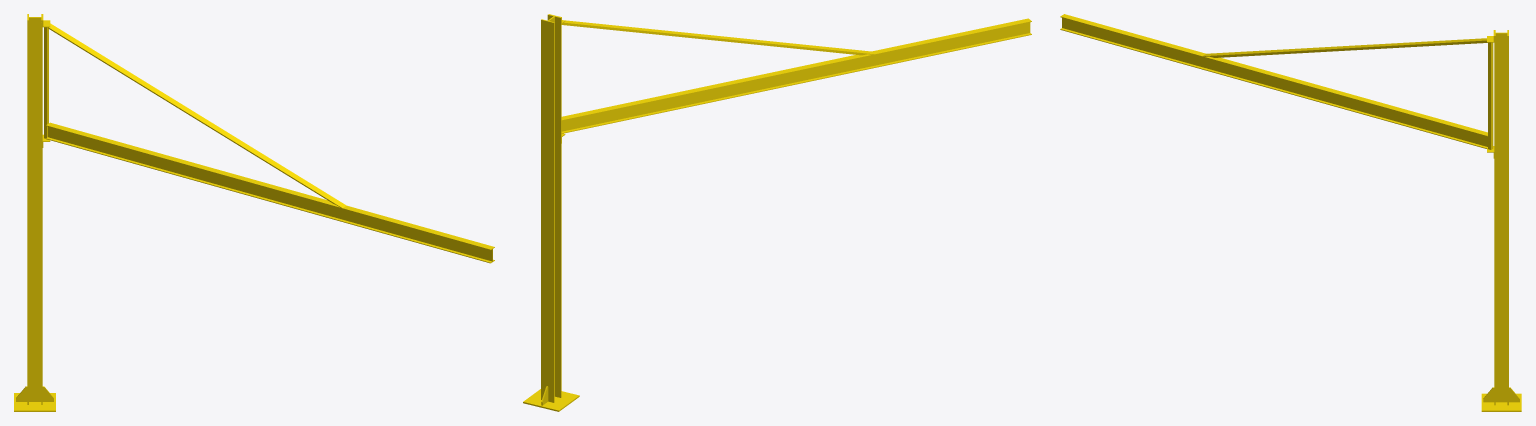
3 views of the same model, side by side, from view 1: azimuth 90°, elevation 25°; view 2: azimuth 150°, elevation 25°; view 3: azimuth 270°, elevation 25° (orthographic). The views are drawn at different scales.
Visible parts, largest first — view 1: imagetostl_mesh80, imagetostl_mesh7, imagetostl_mesh72, imagetostl_mesh38, imagetostl_mesh56, imagetostl_mesh2, imagetostl_mesh9, imagetostl_mesh74, imagetostl_mesh84, imagetostl_mesh83, imagetostl_mesh6; view 2: imagetostl_mesh80, imagetostl_mesh10, imagetostl_mesh22, imagetostl_mesh38, imagetostl_mesh56, imagetostl_mesh72, imagetostl_mesh69, imagetostl_mesh74, imagetostl_mesh84, imagetostl_mesh83, imagetostl_mesh6; view 3: imagetostl_mesh12, imagetostl_mesh79, imagetostl_mesh38, imagetostl_mesh60, imagetostl_mesh72, imagetostl_mesh17, imagetostl_mesh4, imagetostl_mesh67, imagetostl_mesh74, imagetostl_mesh81, imagetostl_mesh82, imagetostl_mesh6.
Part boxes in pixels (box(x1,y1,x2,y2)): imagetostl_mesh80: box(48, 126, 492, 261); imagetostl_mesh7: box(29, 17, 41, 401); imagetostl_mesh72: box(49, 23, 346, 208); imagetostl_mesh38: box(46, 122, 339, 207); imagetostl_mesh56: box(46, 137, 491, 262); imagetostl_mesh2: box(41, 20, 50, 404); imagetostl_mesh9: box(27, 20, 28, 404); imagetostl_mesh74: box(343, 205, 494, 249); imagetostl_mesh84: box(46, 138, 490, 263); imagetostl_mesh83: box(46, 125, 490, 250); imagetostl_mesh6: box(14, 393, 55, 410); imagetostl_mesh80: box(561, 22, 1030, 131); imagetostl_mesh10: box(541, 20, 553, 402); imagetostl_mesh22: box(555, 16, 560, 397); imagetostl_mesh38: box(561, 54, 872, 120); imagetostl_mesh56: box(561, 33, 1031, 132); imagetostl_mesh72: box(564, 20, 874, 54); imagetostl_mesh69: box(561, 23, 866, 55); imagetostl_mesh74: box(872, 18, 1031, 54); imagetostl_mesh84: box(561, 34, 1031, 133); imagetostl_mesh83: box(561, 21, 1031, 120); imagetostl_mesh6: box(523, 389, 579, 410); imagetostl_mesh12: box(1495, 33, 1507, 402); imagetostl_mesh79: box(1062, 18, 1487, 146); imagetostl_mesh38: box(1205, 56, 1487, 135); imagetostl_mesh60: box(1060, 28, 1487, 148); imagetostl_mesh72: box(1203, 38, 1486, 56); imagetostl_mesh17: box(1487, 36, 1495, 405); imagetostl_mesh4: box(1507, 36, 1508, 405); imagetostl_mesh67: box(1210, 41, 1487, 57); imagetostl_mesh74: box(1060, 14, 1205, 56); imagetostl_mesh81: box(1060, 16, 1486, 136); imagetostl_mesh82: box(1060, 29, 1486, 148); imagetostl_mesh6: box(1481, 393, 1521, 410).
Size of the model in its own units: 3.3 by 4.4 by 4.97.
